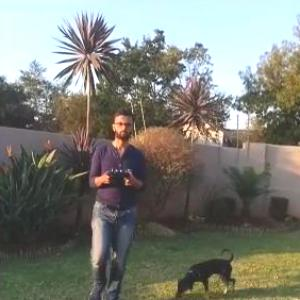follow: (83, 105, 150, 299)
null: (173, 246, 238, 299)
